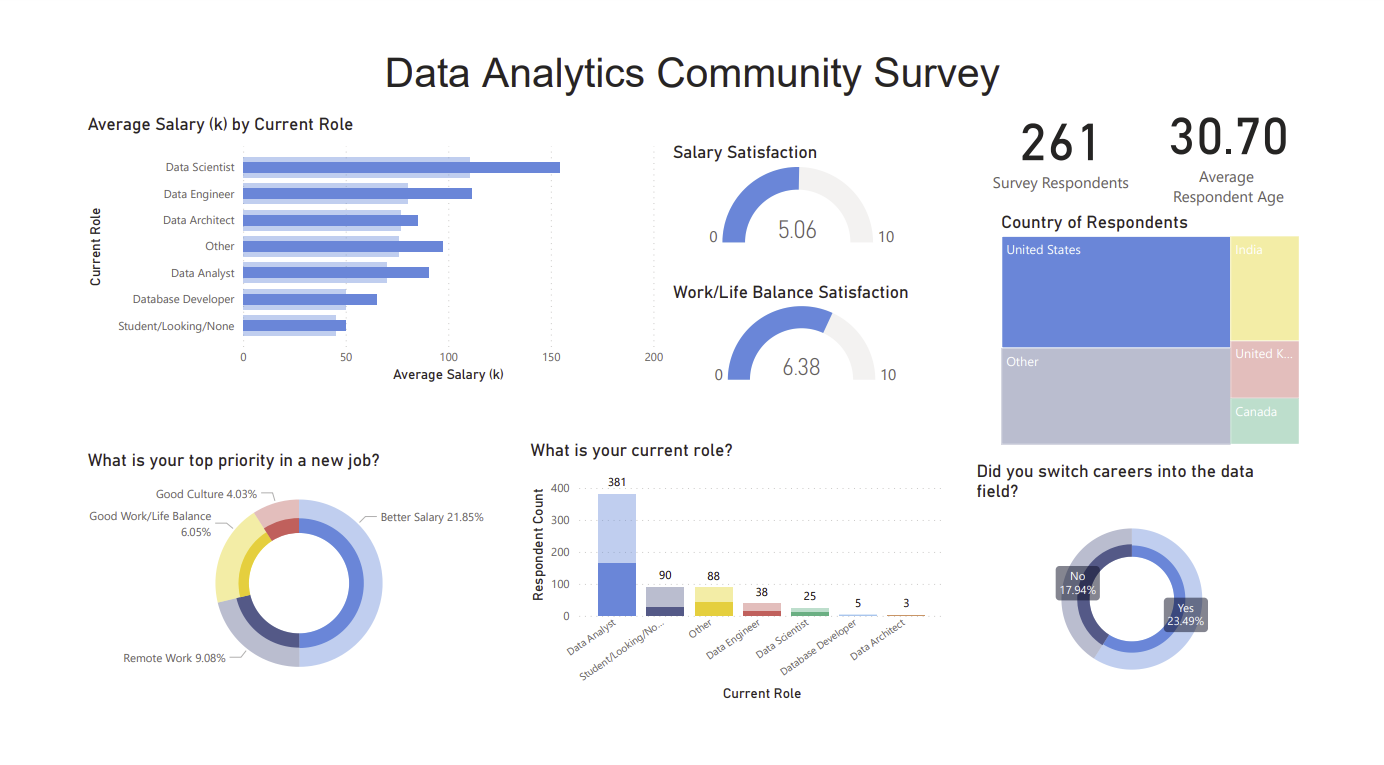

What the dashboard file says about the page in this screenshot:
{"tool":"powerbi","page":{"name":"Page 1","canvas":[1280,720],"ordinal":0},"visuals":[{"type":"textbox","box":[9.7,0,1270.3,72],"z":0},{"type":"card","fields":{"Values":["Count(Data Professional Survey.Unique ID)"]},"box":[957.8,35.6,165,139.1],"z":1000},{"type":"card","fields":{"Values":["Avg(Data Professional Survey.Q10 - Current Age)"]},"box":[1122.9,12.9,156.9,182.8],"z":2000},{"type":"donutChart","title":"Did you switch careers into the data field?","fields":{"Category":["Data Professional Survey.Q2 - Did you switch careers into Data?"],"Y":["CountNonNull(Data Professional Survey.Unique ID)"]},"box":[932,435.2,334.9,247.6],"z":3000},{"type":"barChart","fields":{"Category":["Data Professional Survey.Q1 - Which Title Best Fits your Current Role?.1"],"Y":["Avg(Data Professional Survey.Q3 - Current Yearly Salary (in USD) - Copy.2)"]},"box":[0,72.8,613.2,286.4],"z":4000},{"type":"treemap","title":"Country of Respondents","fields":{"Values":["CountNonNull(Data Professional Survey.Unique ID)"],"Group":["Data Professional Survey.Q11 - Which Country do you live in?.1"]},"box":[957.8,174.7,322,249.2],"z":5000},{"type":"donutChart","title":"What is your top priority in a new job?","fields":{"Category":["Data Professional Survey.Q8 - If you were to look for a new job today, what would be the most important thing to you?"],"Y":["CountNonNull(Data Professional Survey.Unique ID)"]},"box":[0,423.9,453,258.9],"z":6000},{"type":"gauge","title":"Work/Life Balance Satisfaction","fields":{"Y":["Avg(Data Professional Survey.Q6 - How Happy are you in your Current Position with the following? (Work/Life Balance))"],"MinValue":["Min(Data Professional Survey.Q6 - How Happy are you in your Current Position with the following? (Work/Life Balance))"],"MaxValue":["Max(Data Professional Survey.Q6 - How Happy are you in your Current Position with the following? (Work/Life Balance))"]},"box":[613.2,247.6,288,113.3],"z":7000},{"type":"gauge","title":"Salary Satisfaction","fields":{"Y":["Avg(Data Professional Survey.Q6 - How Happy are you in your Current Position with the following? (Upward Mobility))"],"MinValue":["Min(Data Professional Survey.Q6 - How Happy are you in your Current Position with the following? (Upward Mobility))"],"MaxValue":["Max(Data Professional Survey.Q6 - How Happy are you in your Current Position with the following? (Upward Mobility))"]},"box":[613.2,101.9,279.9,114.9],"z":8000},{"type":"columnChart","title":"What is your current role?","fields":{"Category":["Data Professional Survey.Q1 - Which Title Best Fits your Current Role?.1"],"Y":["CountNonNull(Data Professional Survey.Unique ID)"],"Series":["Data Professional Survey.Q1 - Which Title Best Fits your Current Role?.1"]},"box":[464.4,414.2,444.9,278.3],"z":9000}]}

Visuals, with their boxes in screenshot pixels (x1, y1, x2, y2), scaled from the page's 1280x720 canvas onto the 1384x765 screenshot:
textbox: Rect(10, 0, 1383, 76)
card - Count(Data Professional Survey.Unique ID): Rect(1036, 38, 1214, 186)
card - Avg(Data Professional Survey.Q10 - Current Age): Rect(1214, 14, 1383, 208)
"Did you switch careers into the data field?" donutChart: Rect(1008, 462, 1370, 725)
barChart - Data Professional Survey.Q1 - Which Title Best Fits your Current Role?.1 x Avg(Data Professional Survey.Q3 - Current Yearly Salary (in USD) - Copy.2): Rect(0, 77, 663, 382)
"Country of Respondents" treemap: Rect(1036, 186, 1383, 450)
"What is your top priority in a new job?" donutChart: Rect(0, 450, 490, 725)
"Work/Life Balance Satisfaction" gauge: Rect(663, 263, 974, 383)
"Salary Satisfaction" gauge: Rect(663, 108, 966, 230)
"What is your current role?" columnChart: Rect(502, 440, 983, 736)
